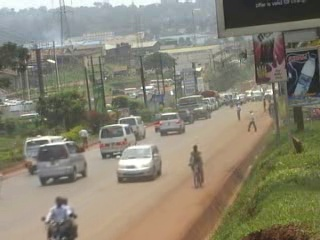Car: (34, 137, 89, 188), (113, 142, 163, 183), (95, 121, 138, 162), (157, 109, 186, 138), (172, 106, 194, 126), (192, 103, 212, 121), (154, 112, 162, 135)
Motorcycle: (40, 192, 83, 239)
